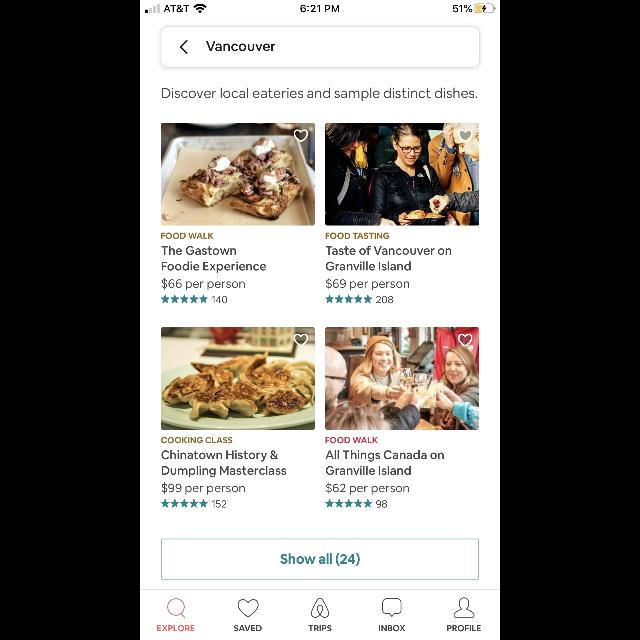icon: (454, 598, 474, 618), (326, 499, 372, 507), (162, 499, 208, 507), (326, 295, 372, 303), (162, 295, 208, 303), (382, 599, 402, 617), (238, 599, 258, 617), (168, 598, 186, 618), (294, 334, 308, 346), (458, 334, 472, 346), (294, 130, 308, 142), (458, 130, 472, 142), (180, 40, 188, 54)
image: (325, 123, 479, 225), (326, 328, 478, 430), (162, 328, 314, 430), (162, 123, 314, 225), (311, 598, 329, 618)
input: (161, 27, 479, 68)
text: (162, 88, 478, 100), (162, 466, 286, 478), (326, 451, 444, 462), (162, 451, 278, 462), (162, 262, 266, 272), (326, 246, 452, 254), (162, 482, 245, 494), (326, 278, 409, 290), (162, 278, 245, 290), (327, 482, 409, 494), (326, 261, 410, 271), (207, 42, 276, 52), (326, 466, 410, 474), (162, 247, 236, 256), (162, 436, 232, 444), (326, 232, 388, 240), (326, 437, 378, 443), (162, 233, 214, 239), (158, 625, 195, 631), (448, 625, 480, 631), (234, 625, 262, 631), (379, 625, 405, 631), (308, 625, 332, 631), (376, 296, 392, 304), (212, 296, 228, 304), (212, 500, 226, 508), (377, 500, 388, 508)
textbutton: (162, 538, 478, 580)
uppertaskbar: (140, 0, 500, 14)
